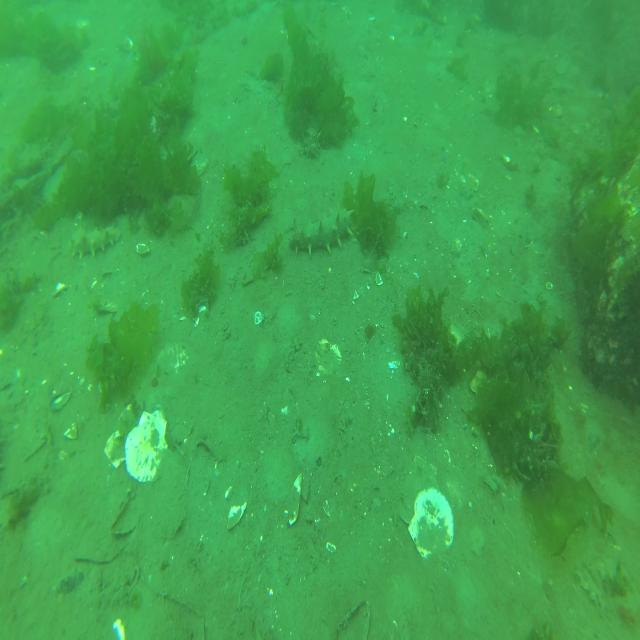holothurian: (288, 208, 355, 256), (67, 224, 122, 261), (0, 427, 7, 473)
scallop: (408, 486, 455, 559), (124, 410, 169, 484), (399, 454, 437, 527), (104, 402, 135, 469), (368, 421, 402, 480), (102, 558, 141, 601), (314, 336, 343, 375), (282, 474, 302, 524), (156, 344, 190, 372), (452, 171, 479, 198), (50, 384, 74, 413), (91, 293, 120, 315), (136, 241, 151, 258)
